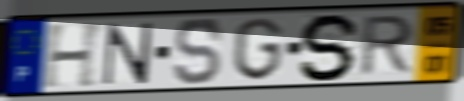G: (232, 16, 285, 83)
H: (41, 20, 107, 91)
N: (99, 20, 156, 87)
R: (356, 13, 418, 79)
S: (297, 11, 364, 84), (173, 16, 225, 88)
